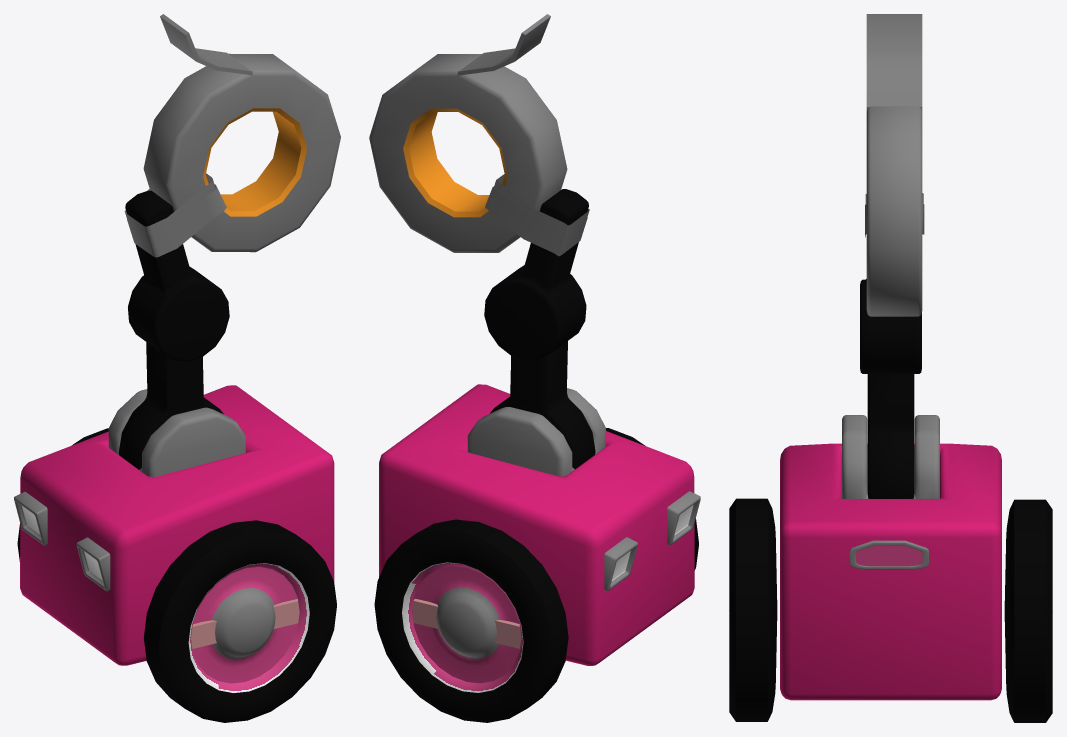
File: Fixer.fbx
The picture shows the model from 3 angles, left to right: view 1: azimuth 30°, elevation 25°; view 2: azimuth 150°, elevation 25°; view 3: azimuth 270°, elevation 25°; orthographic projection. The views are drawn at different scales.
Parts seen in each view (by area): view 1: FixerBody; view 2: FixerBody; view 3: FixerBody.
Part boxes in pixels (bbox=[...]): FixerBody: bbox=[14, 14, 340, 722]; FixerBody: bbox=[369, 14, 700, 722]; FixerBody: bbox=[729, 14, 1052, 722].
Bounding box in the file's own units: 139 × 310 × 130.
